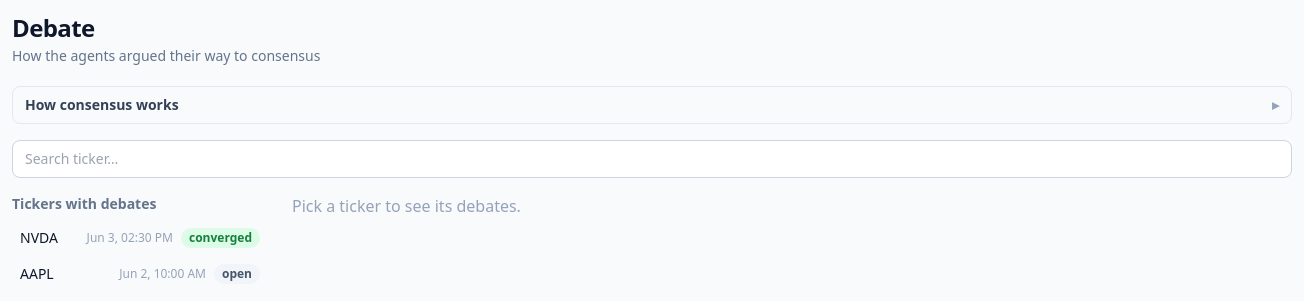
Test: DebateViewer › filters the ticker list via search
The image size is (1304, 301).
Expected: the text "AAPL" is shown, [20,264,54,284]
In the field named "search-ticker": (652, 159) [12,140,1292,178], type "nv"
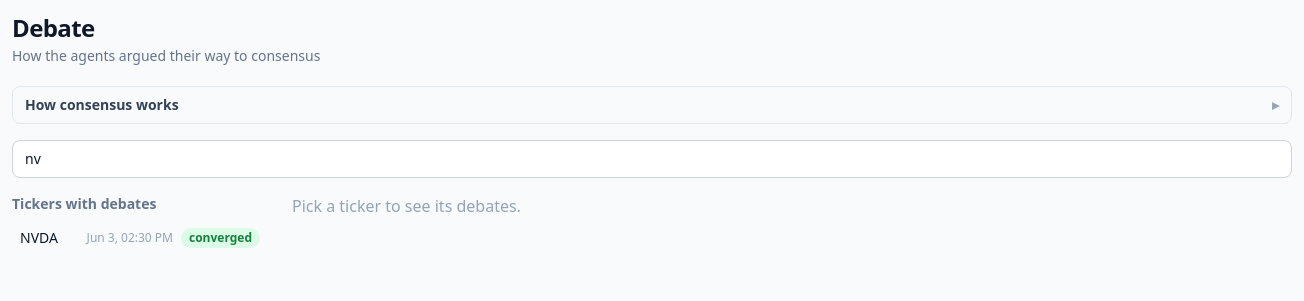
Expected: the text "NVDA" is shown, [20,228,58,248]
Expected: the button "AAPL" is gone
